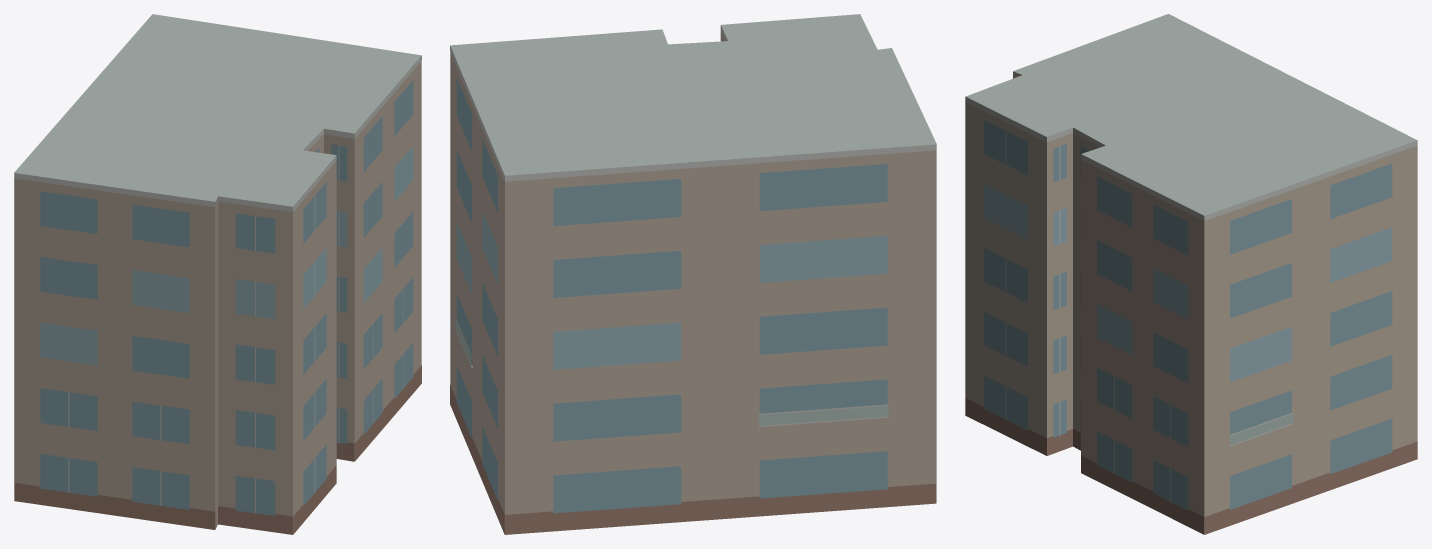
The model's file is survey-upis-32987001.glb.
The picture shows the model from 3 angles, left to right: view 1: azimuth 30°, elevation 25°; view 2: azimuth 150°, elevation 25°; view 3: azimuth 270°, elevation 25°; orthographic projection. The views are drawn at different scales.
Parts seen in each view (by area): view 1: survey-upis-32987001.tmp; view 2: survey-upis-32987001.tmp; view 3: survey-upis-32987001.tmp.
Boxes of the visible parts, bbox=[...] form: survey-upis-32987001.tmp: bbox=[14, 14, 421, 534]; survey-upis-32987001.tmp: bbox=[450, 14, 936, 534]; survey-upis-32987001.tmp: bbox=[965, 14, 1417, 534].
Bounding box in the file's own units: 20.1 × 14.8 × 19.03.
